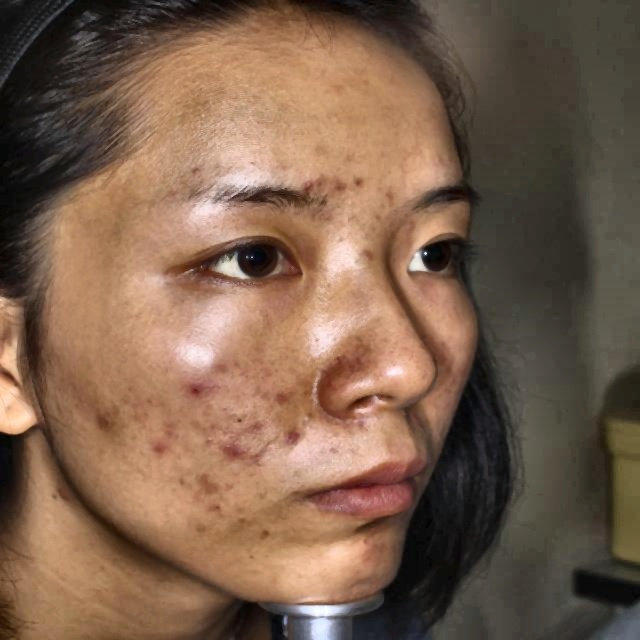pustule: (207, 437, 245, 465), (188, 371, 212, 397), (93, 403, 117, 428), (284, 178, 322, 193), (259, 393, 290, 408), (281, 422, 305, 441), (355, 246, 375, 266), (202, 472, 220, 493), (352, 172, 369, 194), (148, 435, 170, 452), (330, 172, 347, 188), (250, 448, 264, 465)
